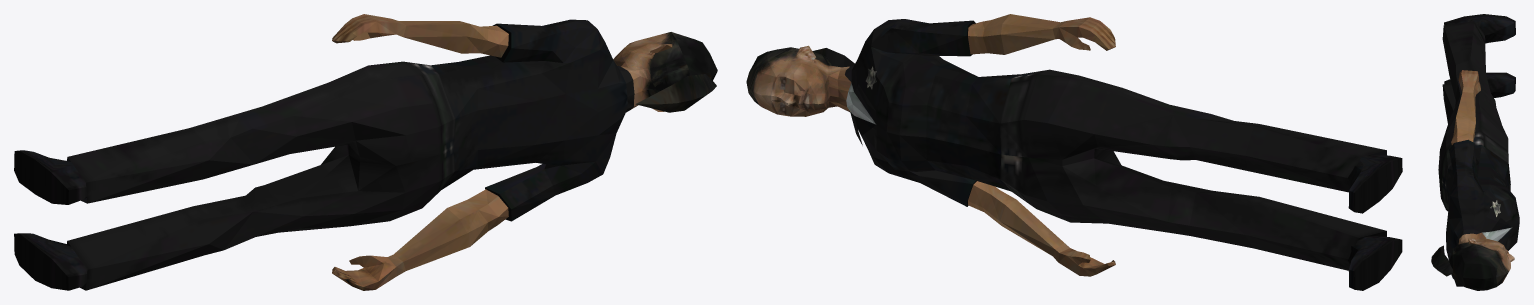
File: vbfycpd.obj
3 renders of one model, left to right at view 1: azimuth 30°, elevation 25°; view 2: azimuth 150°, elevation 25°; view 3: azimuth 270°, elevation 25°, orthographic. The views are drawn at different scales.
Visible parts, largest first — view 1: noname_0; view 2: noname_0; view 3: noname_0.
Part boxes in pixels (box(x1,y1,x2,y2)): noname_0: box(14, 14, 717, 290); noname_0: box(746, 14, 1402, 290); noname_0: box(1431, 14, 1519, 290).
Size of the model in its own units: 1.8 by 0.6856 by 0.302.
Materials: 1 (1 with a texture image).
